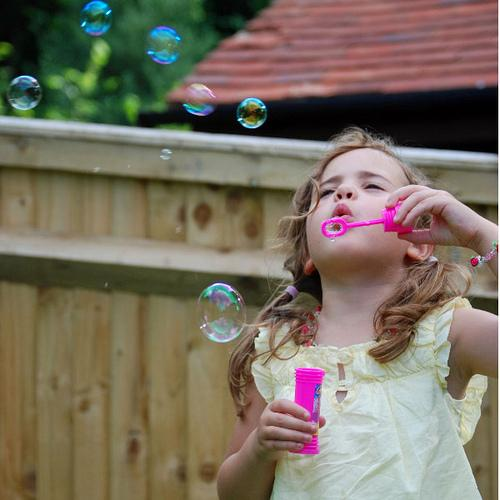person: (199, 128, 500, 497)
